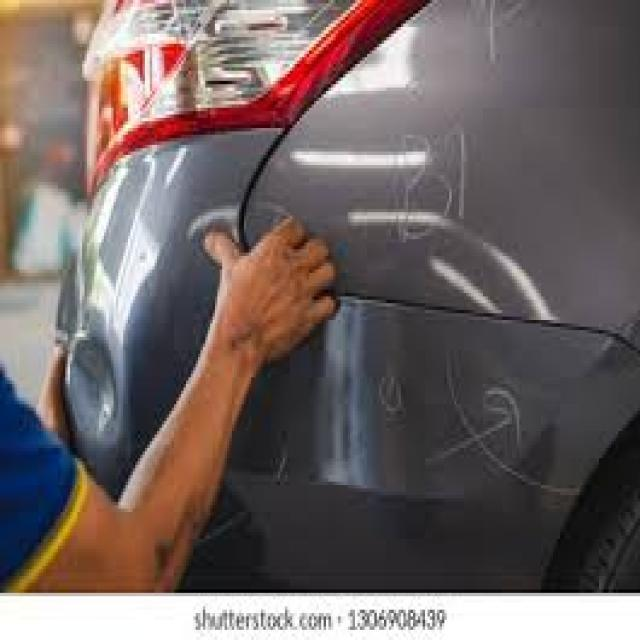dent-or-scratch: (65, 334, 127, 441)
